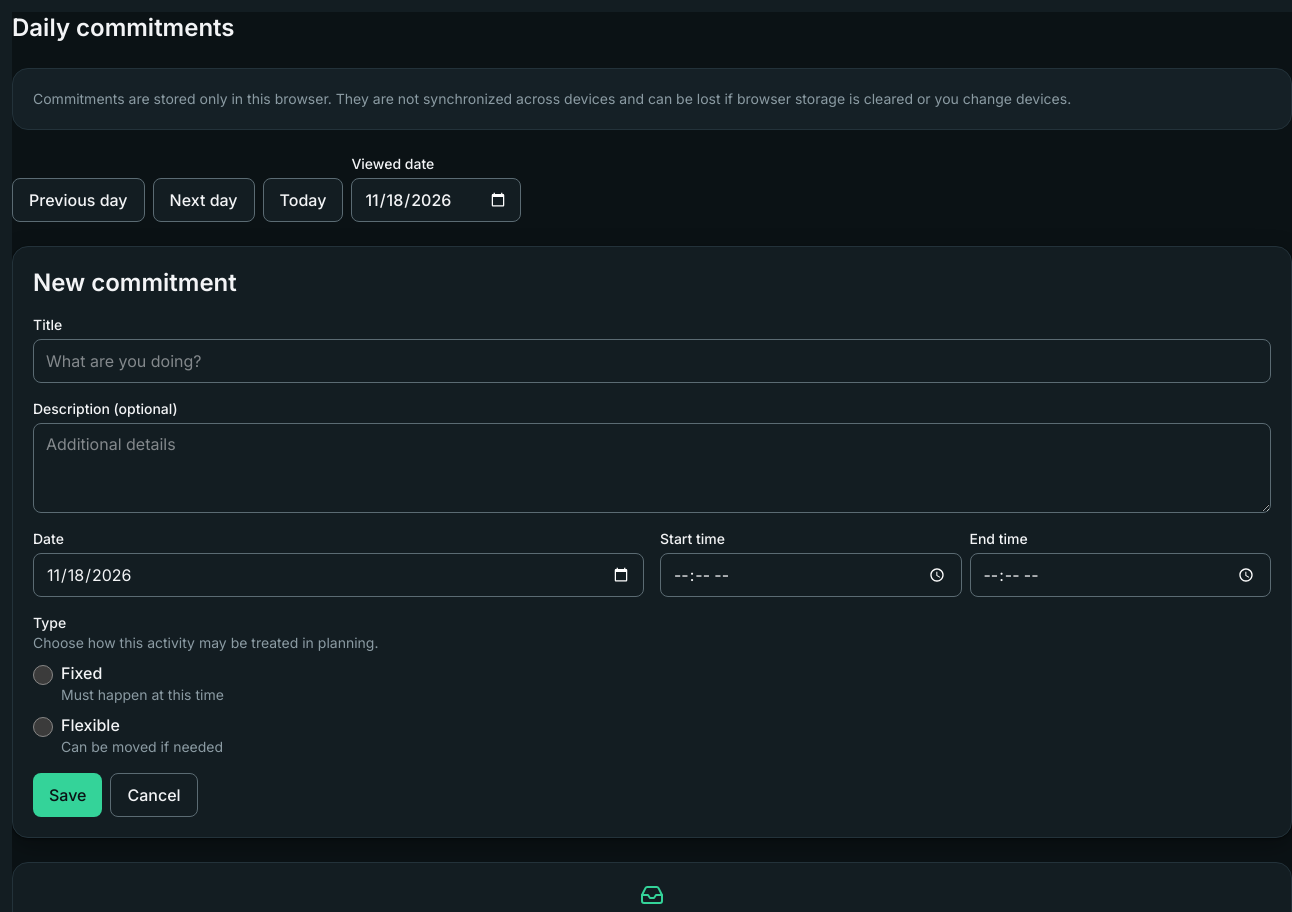
Test: date view and ordering › defaults to today, persists the viewed date, and navigates days
Check: the date field labelled "Viewed date" holds "2026-11-18", box [351,178,521,222]
Click the button "Next day": (204, 200) [153,178,255,222]
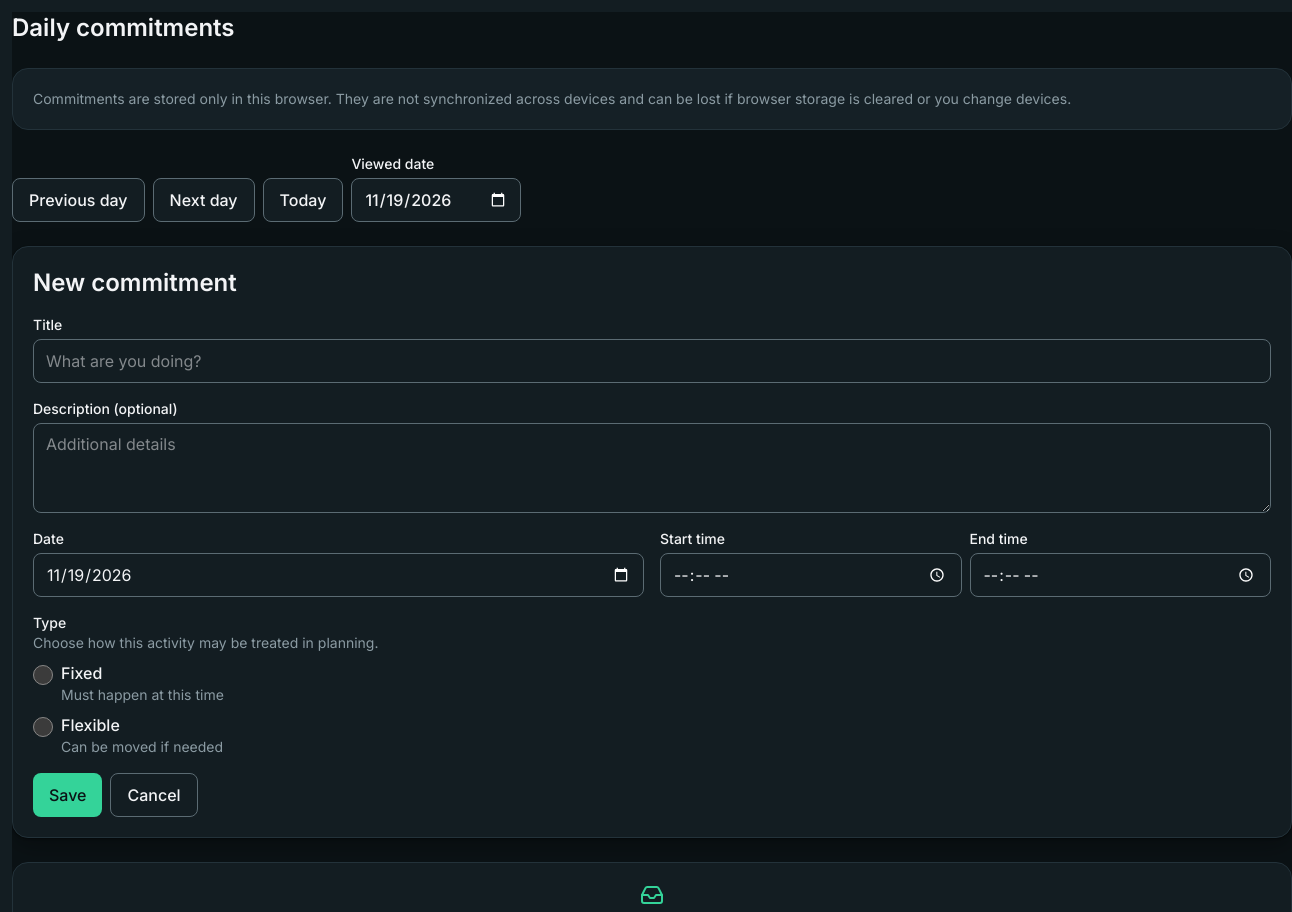
Check: the date field labelled "Viewed date" does not hold "2026-11-18", box [351,178,521,222]
Click the button "Today": (303, 200) [263,178,343,222]
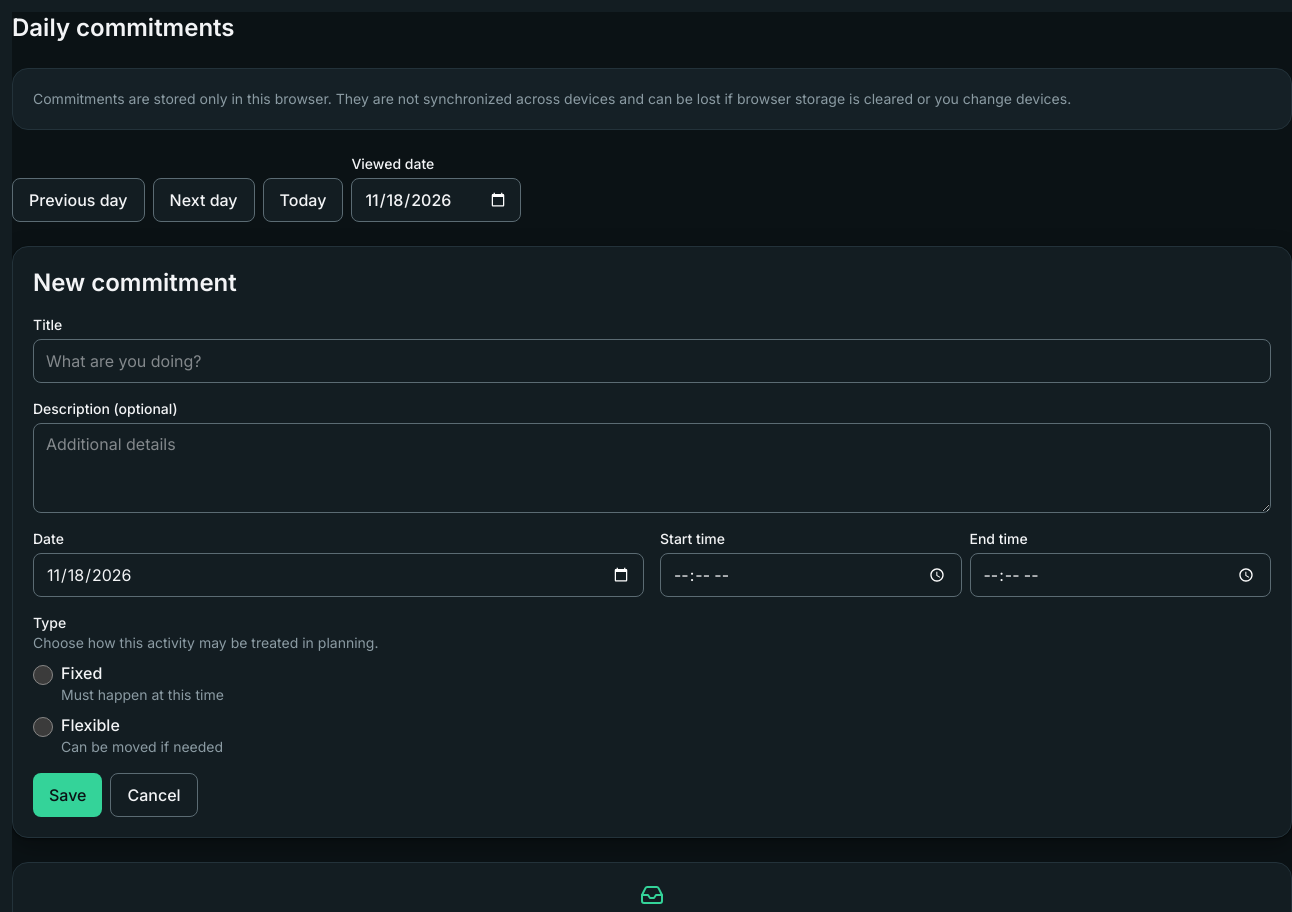
Check: the date field labelled "Viewed date" holds "2026-11-18", box [351,178,521,222]
